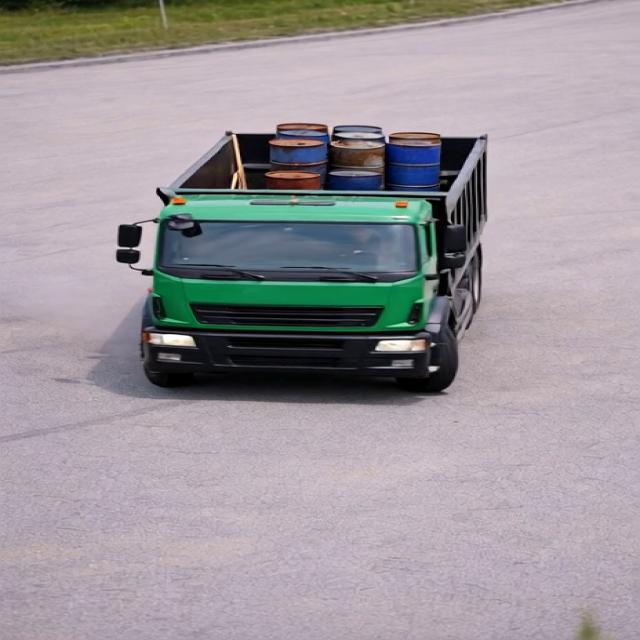trailer: (142, 122, 508, 202)
truck: (110, 102, 538, 394)
